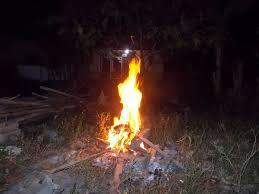fire: (114, 55, 144, 151)
